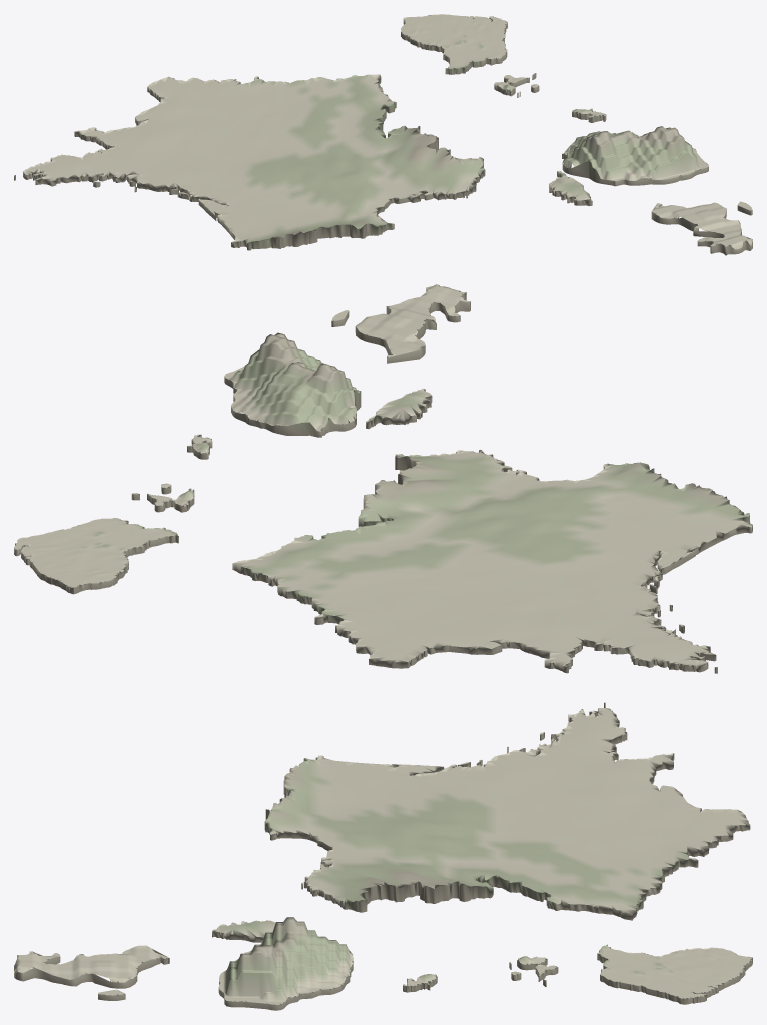
Rendered from fr-mobile.glb.
3 renders of one model, top to bottom at view 1: azimuth 30°, elevation 25°; view 2: azimuth 150°, elevation 25°; view 3: azimuth 270°, elevation 25°, orthographic. The views are drawn at different scales.
Size of the model in its own units: 129 by 8.51 by 133.
